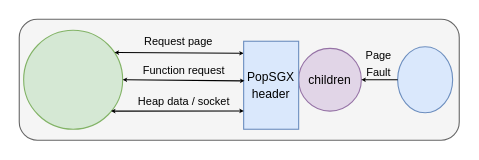
This 479x160 diagram has some shape labels left out. Here are the shapes that lost their labels. From the top down, the box of each, then its label:
(23, 29, 123, 129): PopSGX (server or client)
(397, 46, 453, 113): userfaultfd
